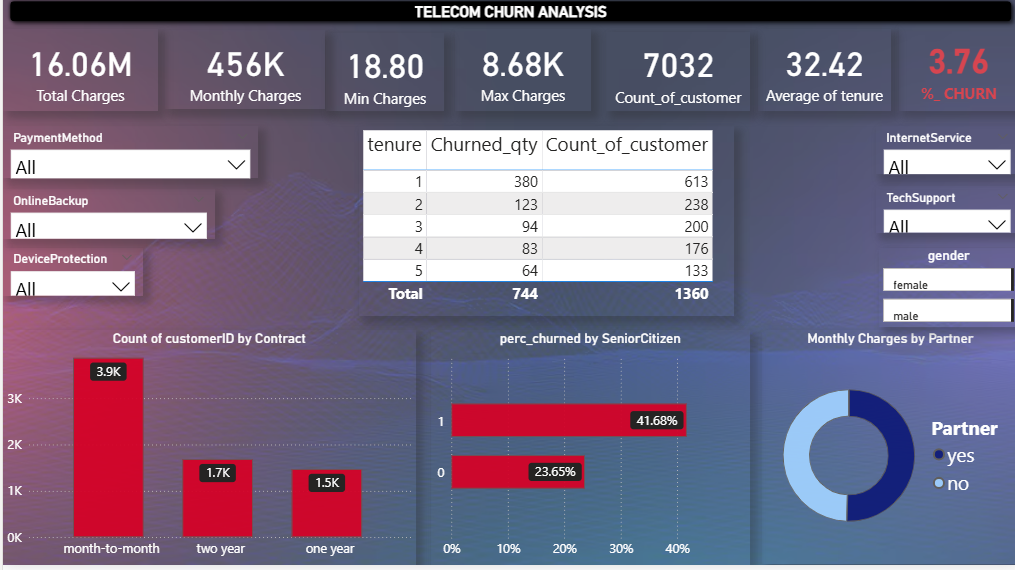

The dashboard page shown, as its layout file describes it:
{"tool":"powerbi","page":{"name":"Page 1","canvas":[1280,720],"ordinal":0},"visuals":[{"type":"card","fields":{"Values":["original data1.Monthly Charges"]},"box":[204.1,45.4,202.2,100.2],"z":0},{"type":"card","fields":{"Values":["original data1.Min Charges"]},"box":[406.3,49.1,149.3,98.3],"z":1000},{"type":"card","fields":{"Values":["original data1.Max Charges"]},"box":[568.8,43.5,172,103.9],"z":2000},{"type":"columnChart","fields":{"Category":["original data1.Contract"],"Y":["CountNonNull(original data1.customerID)"]},"box":[0,423.3,519.7,296.7],"z":3000},{"type":"slicer","fields":{"Values":["original data1.PaymentMethod"]},"box":[0,166.3,321.3,66.1],"z":4000},{"type":"slicer","fields":{"Values":["original data1.InternetService"]},"box":[1099.9,166.3,179.5,60.5],"z":5000},{"type":"card","fields":{"Values":["original data1.Count_of_customer"]},"box":[759.7,47.2,181.4,100.2],"z":6000},{"type":"clusteredBarChart","fields":{"Category":["original data1.SeniorCitizen"],"Y":["original data1.perc_churned"]},"box":[538.6,423.3,402.5,296.7],"z":8000},{"type":"donutChart","fields":{"Category":["original data1.Partner"],"Y":["original data1.Monthly Charges"]},"box":[956.2,423.3,323.2,294.8],"z":9000},{"type":"slicer","fields":{"Values":["original data1.OnlineBackup"]},"box":[0,245.7,266.5,62.4],"z":10000},{"type":"shape","box":[0,0,1279.4,43.5],"z":11000},{"type":"slicer","fields":{"Values":["original data1.DeviceProtection"]},"box":[0,319.4,175.7,60.5],"z":12000},{"type":"advancedSlicerVisual","fields":{"Values":["original data1.gender"]},"box":[1103.6,319.4,175.7,100.2],"z":13000},{"type":"slicer","fields":{"Values":["original data1.TechSupport"]},"box":[1099.9,241.9,179.5,58.6],"z":14000},{"type":"tableEx","fields":{"Values":["original data1.tenure","original data1.Churned_qty","original data1.Count_of_customer"]},"box":[447.9,166.3,472.4,240],"z":15000},{"type":"card","fields":{"Values":["Avg(original data1.tenure)"]},"box":[950.6,43.5,168.2,103.9],"z":16000},{"type":"card","fields":{"Values":["original data1.Total Charges"]},"box":[0,43.5,194.6,103.9],"z":17000},{"type":"card","fields":{"Values":["original data1.%_ CHURN"]},"box":[1128.2,37.8,151.2,109.6],"z":17001}]}

Visuals, with their boxes in screenshot pixels (x1, y1, x2, y2), scaled from the page's 1280x720 canvas onto the 1015x570 screenshot:
card - original data1.Monthly Charges: Rect(162, 36, 322, 115)
card - original data1.Min Charges: Rect(322, 39, 441, 117)
card - original data1.Max Charges: Rect(451, 34, 587, 117)
columnChart - original data1.Contract x CountNonNull(original data1.customerID): Rect(0, 335, 412, 569)
slicer - original data1.PaymentMethod: Rect(0, 132, 255, 184)
slicer - original data1.InternetService: Rect(872, 132, 1014, 180)
card - original data1.Count_of_customer: Rect(602, 37, 746, 117)
clusteredBarChart - original data1.SeniorCitizen x original data1.perc_churned: Rect(427, 335, 746, 569)
donutChart - original data1.Partner x original data1.Monthly Charges: Rect(758, 335, 1014, 568)
slicer - original data1.OnlineBackup: Rect(0, 195, 211, 244)
shape: Rect(0, 0, 1014, 34)
slicer - original data1.DeviceProtection: Rect(0, 253, 139, 301)
advancedSlicerVisual - original data1.gender: Rect(875, 253, 1014, 332)
slicer - original data1.TechSupport: Rect(872, 192, 1014, 238)
tableEx - original data1.tenure x original data1.Churned_qty: Rect(355, 132, 730, 322)
card - Avg(original data1.tenure): Rect(754, 34, 887, 117)
card - original data1.Total Charges: Rect(0, 34, 154, 117)
card - original data1.%_ CHURN: Rect(895, 30, 1014, 117)
